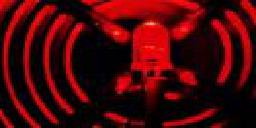LED: (131, 20, 172, 77)
